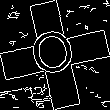O_S: (29, 25, 81, 85)
